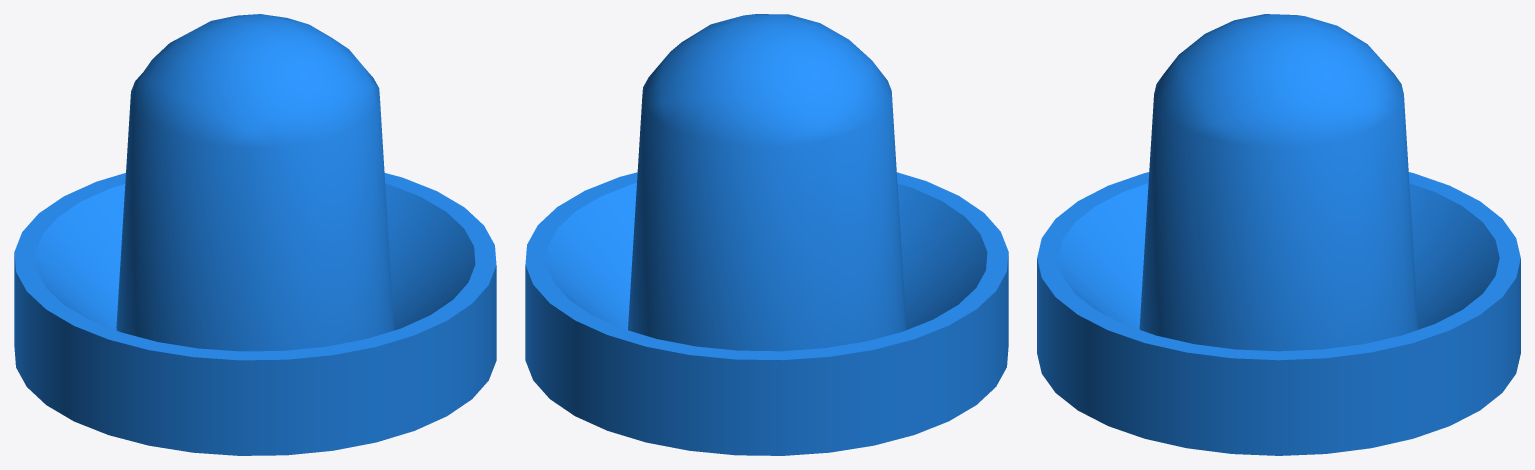
The model's file is paddle_blue.glb.
3 views of the same model, side by side, from view 1: azimuth 30°, elevation 25°; view 2: azimuth 150°, elevation 25°; view 3: azimuth 270°, elevation 25° (orthographic).
Parts seen in each view (by area): view 1: Circle.005_2; view 2: Circle.005_2; view 3: Circle.005_2.
Part boxes in pixels (<box>): Circle.005_2: <box>14,14,496,455</box>; Circle.005_2: <box>525,14,1008,455</box>; Circle.005_2: <box>1037,14,1520,455</box>.
Size of the model in its own units: 0.1669 by 0.1249 by 0.1669.
